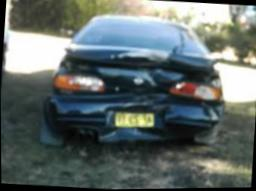Bumper: (44, 93, 225, 145)
Dickey: (60, 43, 221, 92)
